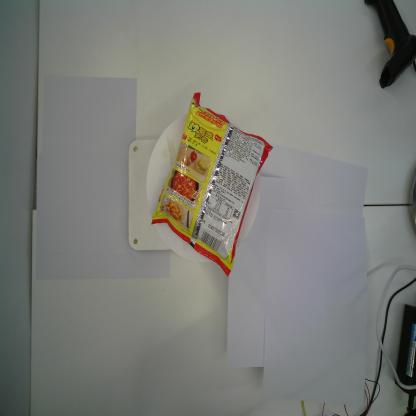Instant Noodles: (148, 91, 275, 278)
